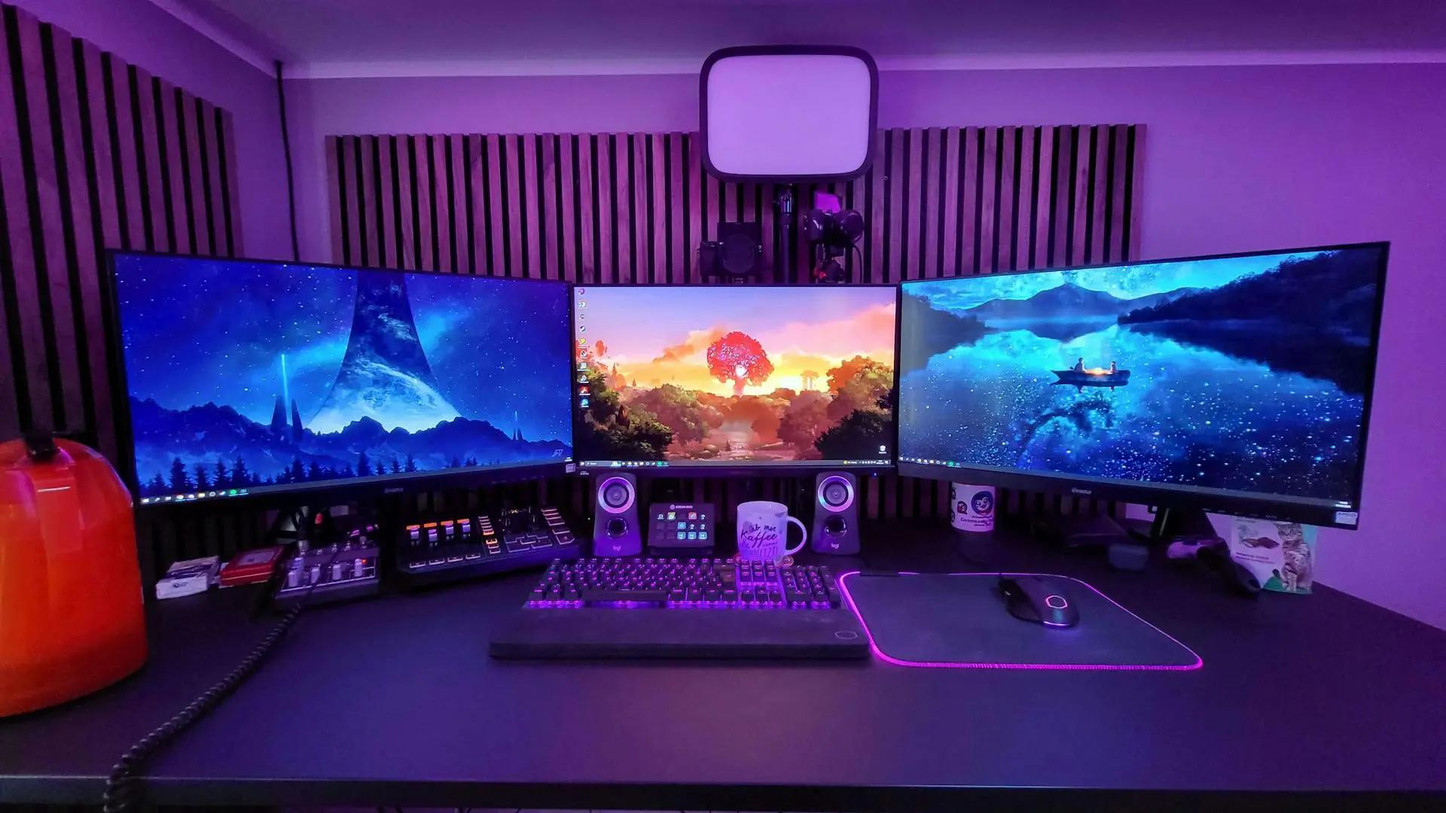head_phone: (800, 206, 866, 246)
keyboard: (484, 547, 882, 672)
light: (688, 33, 893, 191)
mic: (694, 218, 768, 280), (814, 190, 846, 263)
monitor: (888, 231, 1404, 538), (92, 225, 578, 519), (566, 274, 897, 484)
mouse: (983, 559, 1089, 639)
speaker: (582, 466, 644, 560), (806, 468, 866, 556)
